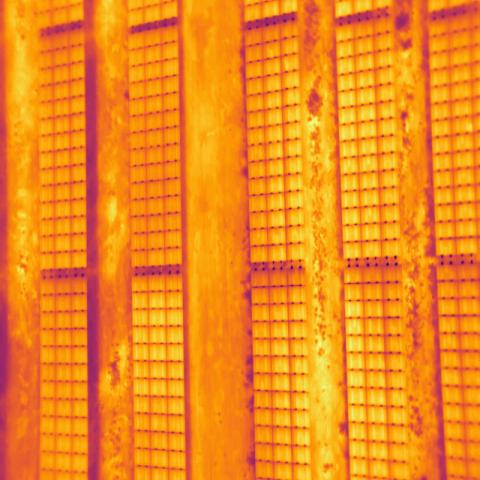fault: (452, 116, 474, 135)
